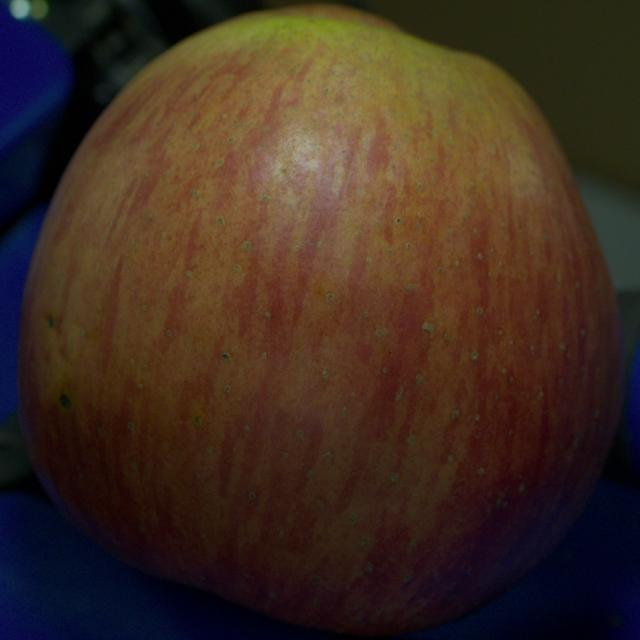apple: (19, 7, 623, 634)
pest: (59, 393, 69, 409), (221, 352, 230, 361), (48, 314, 53, 328)
